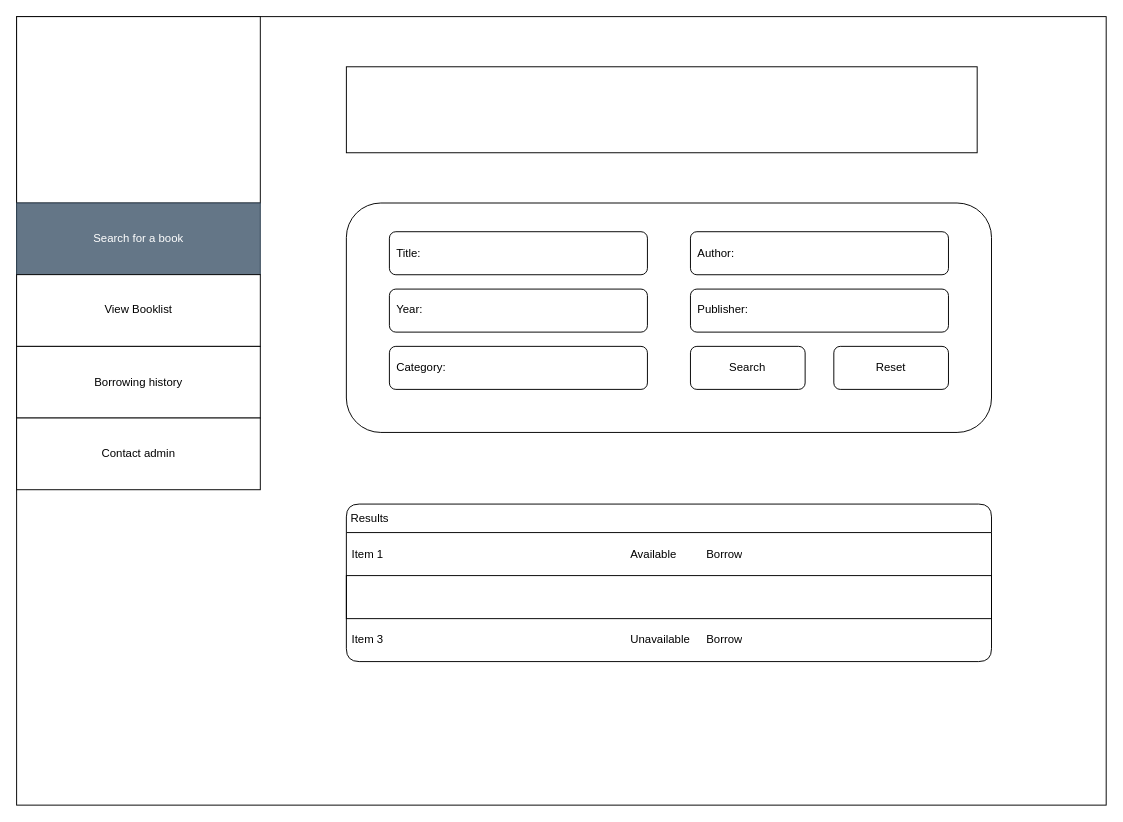
This 1123x822 diagram has some shape labels left out. Here are the shapes that lost their labels. From the top down, the box of each, then its label:
(16, 16, 260, 203): Homepage Logo
(345, 66, 977, 153): Logged in as: User XXX
(345, 575, 992, 619): Item 2 Available Borrow
